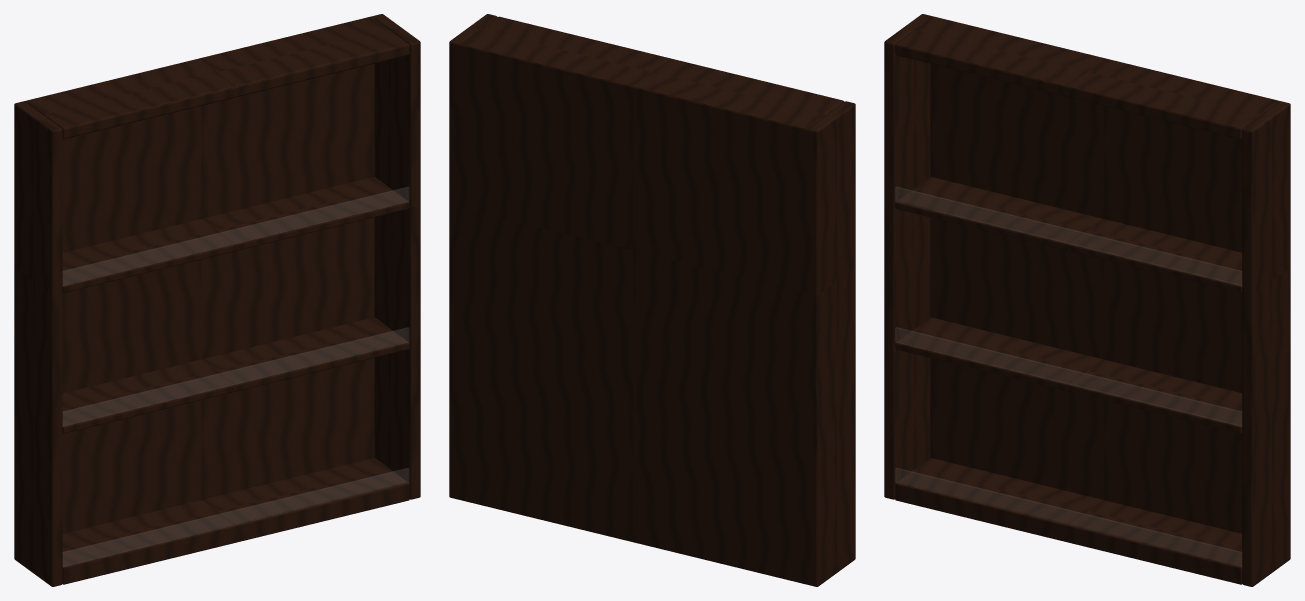
Rendered from pack_shelf.glb.
3 renders of one model, left to right at view 1: azimuth 30°, elevation 25°; view 2: azimuth 150°, elevation 25°; view 3: azimuth 330°, elevation 25°, orthographic.
Parts seen in each view (by area): view 1: back_board.001, cheek_-1.001, cheek_1.001, ledge_0.001, top_board.001, ledge_1.001, ledge_2.001, lip_1, lip_0, lip_2; view 2: back_board.001, cheek_-1.001, top_board.001, cheek_1.001; view 3: back_board.001, cheek_1.001, cheek_-1.001, ledge_0.001, top_board.001, ledge_1.001, ledge_2.001, lip_2, lip_1, lip_0.
Boxes of the visible parts, x1,y1,x2,y2 form: back_board.001: (16, 14, 382, 533); cheek_-1.001: (14, 102, 62, 586); cheek_1.001: (374, 14, 420, 499); ledge_0.001: (62, 458, 409, 584); top_board.001: (27, 16, 409, 139); ledge_1.001: (62, 317, 409, 433); ledge_2.001: (62, 177, 409, 292); lip_1: (63, 328, 408, 425); lip_0: (63, 468, 408, 566); lip_2: (63, 187, 408, 284); back_board.001: (450, 40, 817, 586); cheek_-1.001: (808, 101, 855, 586); top_board.001: (461, 16, 844, 137); cheek_1.001: (449, 14, 497, 497); back_board.001: (922, 14, 1288, 533); cheek_1.001: (1242, 101, 1290, 586); cheek_-1.001: (884, 14, 930, 499); ledge_0.001: (895, 458, 1242, 584); top_board.001: (895, 16, 1277, 139); ledge_1.001: (895, 317, 1242, 433); ledge_2.001: (895, 177, 1242, 292); lip_2: (896, 187, 1241, 285); lip_1: (896, 328, 1241, 425); lip_0: (896, 468, 1241, 565).
Size of the model in its own units: 0.66 by 0.78 by 0.12.
Materials: 2 (1 with a texture image).
